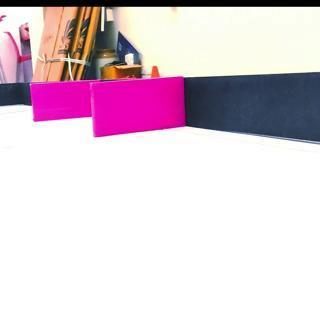xparking: (92, 78, 184, 134), (29, 80, 89, 120)
